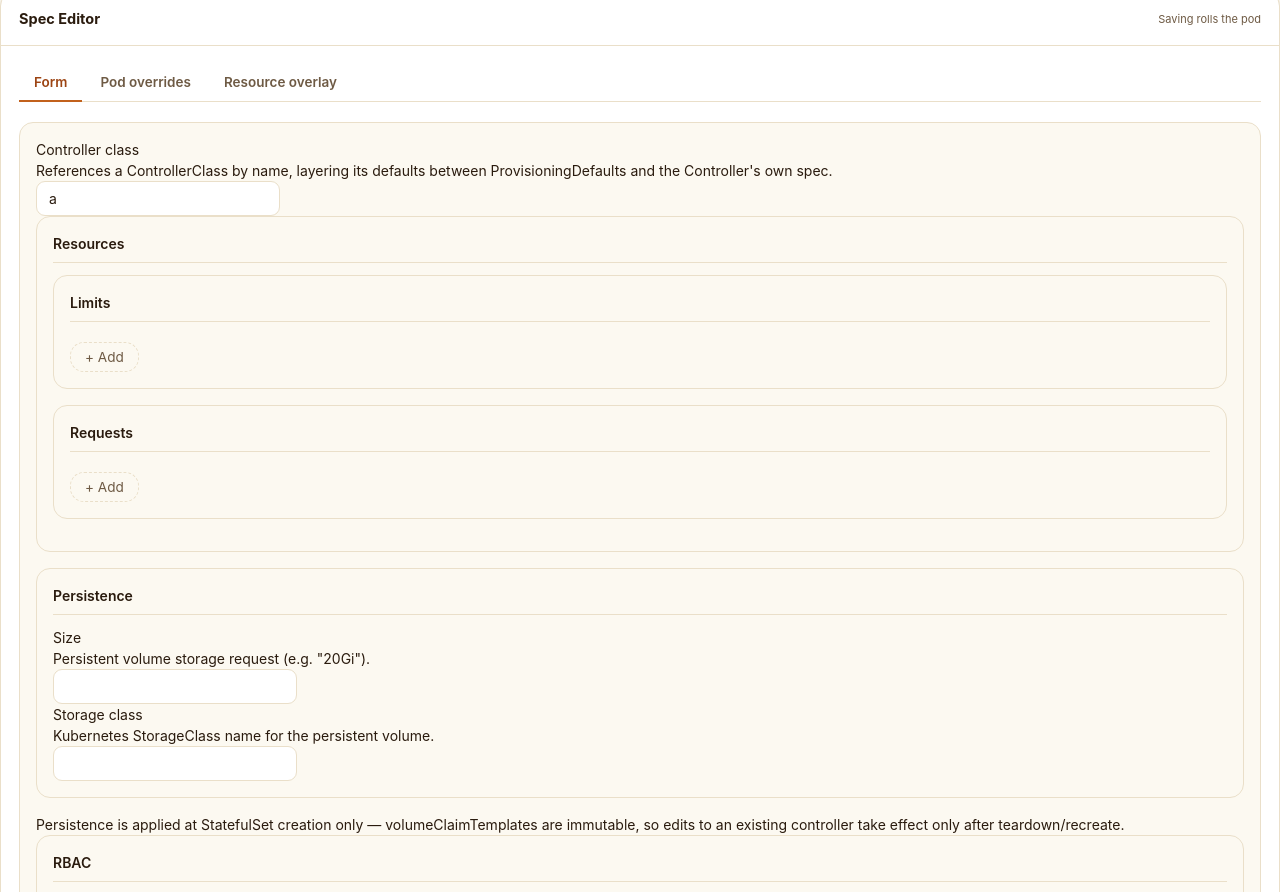
SpecEditorCard save › surfaces unappliedRemovals as a non-blocking notice naming the field(s)
Replace the text in the field labelled "Controller class" with "b". click: point(158, 198)
box: [36,181,280,216]
(page scrolled)
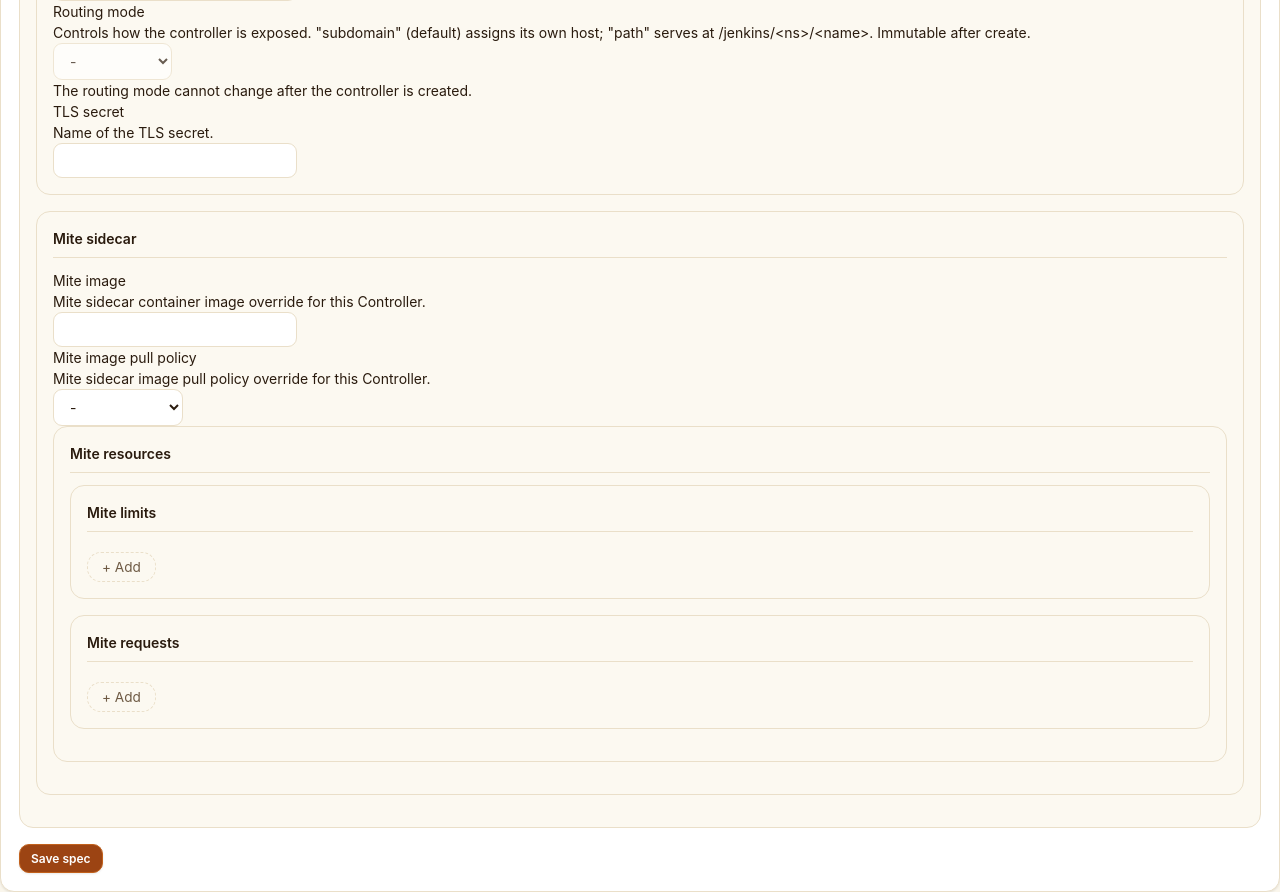
Click the button "Save spec". click: point(61, 858)
box: [19,844,103,873]
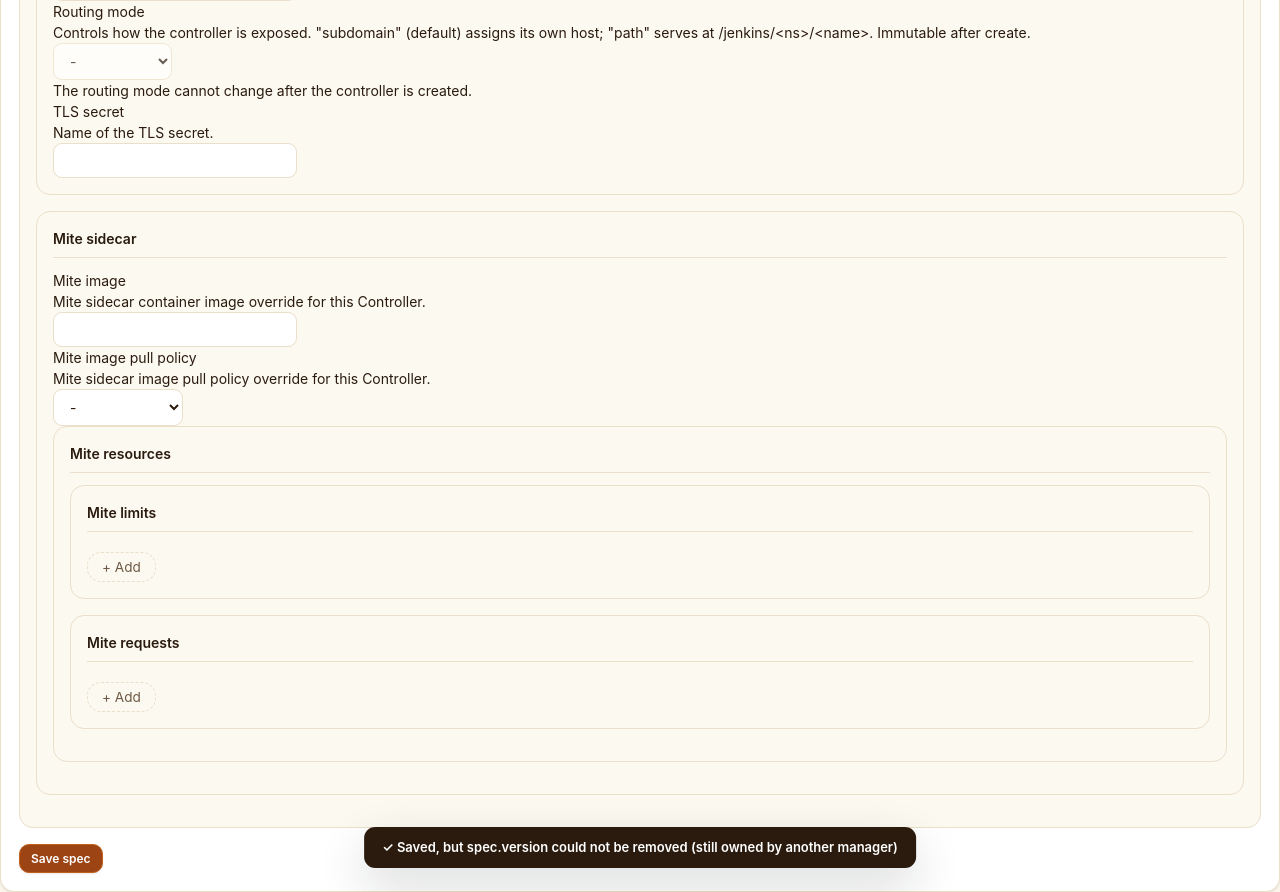
Expected: the text "spec.version could not be removed" is shown, [397,838,898,854]
